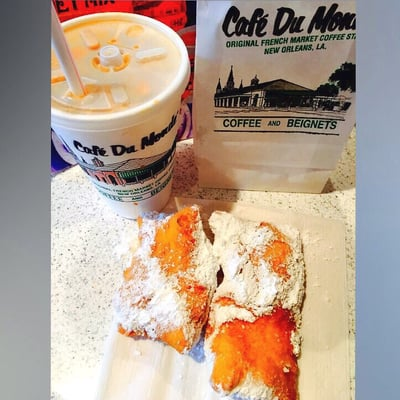pizza: (51, 11, 193, 220)
salad: (51, 2, 87, 97)
